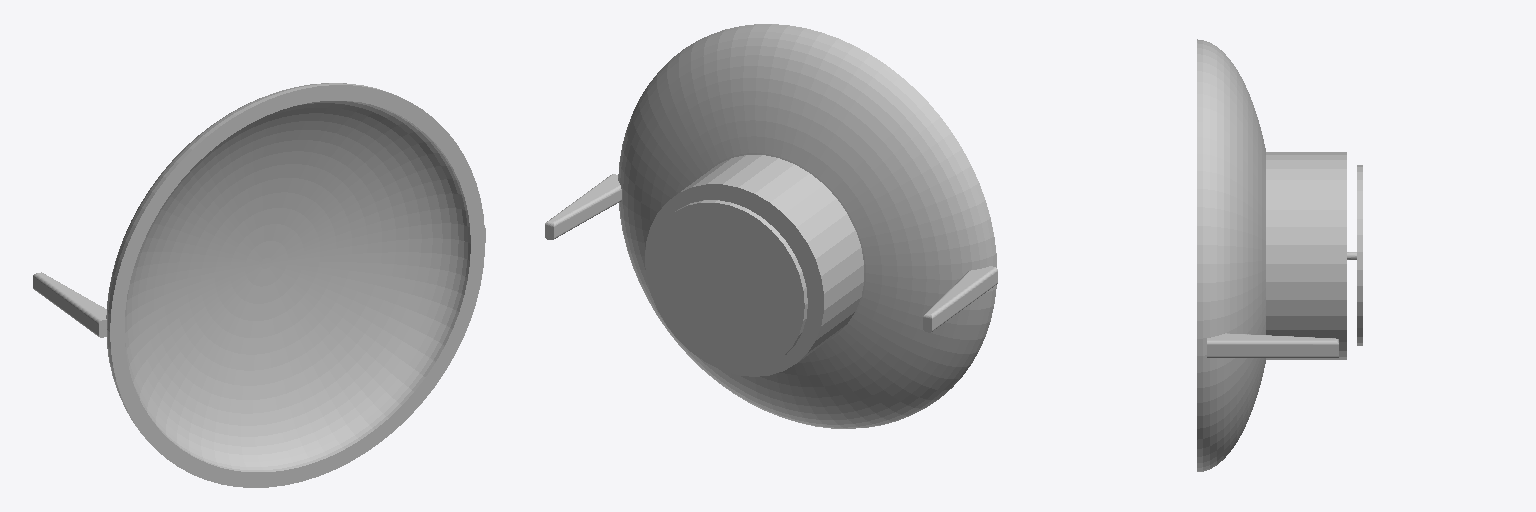
File: part_dips_coarse.obj
The picture shows the model from 3 angles: view 1: azimuth 30°, elevation 25°; view 2: azimuth 150°, elevation 25°; view 3: azimuth 270°, elevation 25°; orthographic projection.
Visible parts, largest first — view 1: mesh32, mesh33, mesh34, mesh12, mesh21; view 2: mesh34, mesh28, mesh30, mesh31, mesh27, mesh12, mesh8, mesh9, mesh21; view 3: mesh34, mesh30, mesh0, mesh27, mesh4.
Part boxes in pixels (left/top/right/bottom): mesh32: left=125, top=101, right=470, bottom=471; mesh33: left=110, top=85, right=484, bottom=487; mesh34: left=106, top=83, right=396, bottom=439; mesh12: left=33, top=277, right=98, bottom=334; mesh21: left=38, top=273, right=106, bottom=319; mesh34: left=618, top=24, right=996, bottom=428; mesh28: left=648, top=203, right=804, bottom=370; mesh30: left=681, top=155, right=863, bottom=361; mesh31: left=645, top=184, right=823, bottom=376; mesh27: left=675, top=200, right=807, bottom=354; mesh12: left=932, top=272, right=997, bottom=329; mesh8: left=554, top=190, right=621, bottom=237; mesh9: left=551, top=174, right=619, bottom=221; mesh21: left=928, top=266, right=993, bottom=313; mesh34: left=1197, top=39, right=1265, bottom=471; mesh30: left=1266, top=152, right=1346, bottom=359; mesh0: left=1207, top=345, right=1338, bottom=355; mesh27: left=1357, top=165, right=1362, bottom=345; mesh4: left=1207, top=340, right=1338, bottom=344.
Bounding box in the file's own units: 0.2479 × 0.2399 × 0.0924.